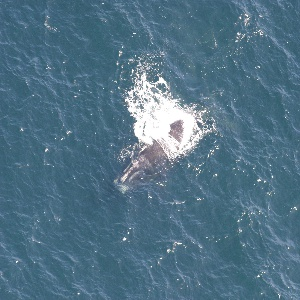cetacean: (113, 108, 192, 193)
